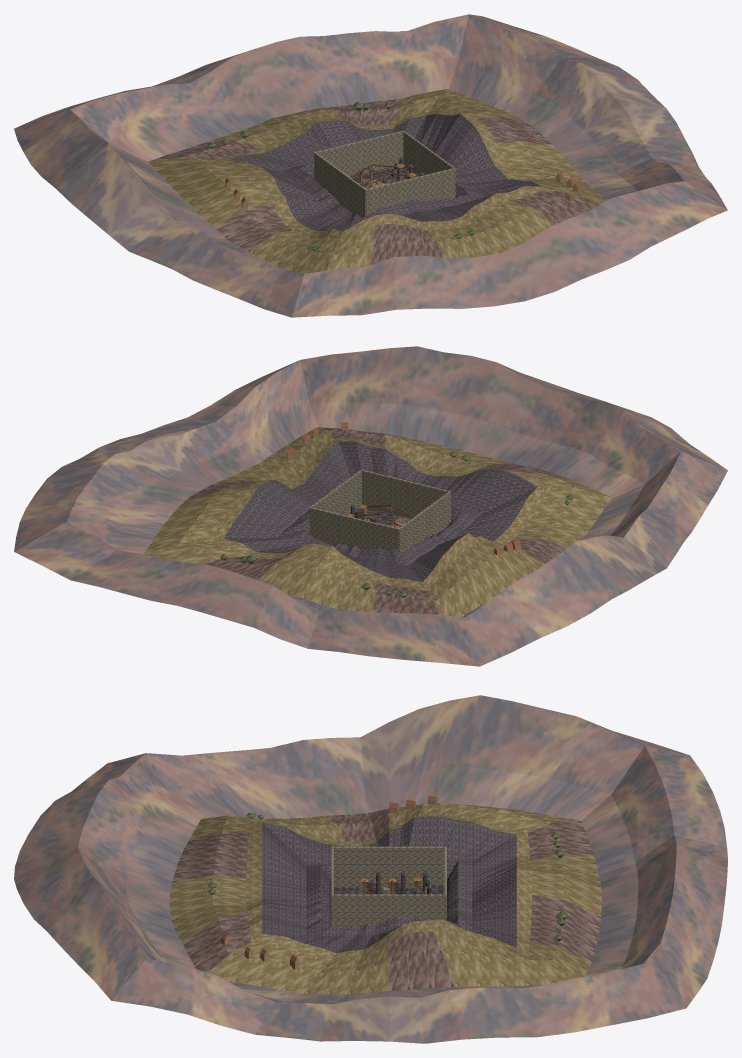
The model's file is CinderLens.fbx.
3 renders of one model, top to bottom at view 1: azimuth 30°, elevation 25°; view 2: azimuth 150°, elevation 25°; view 3: azimuth 270°, elevation 25°, orthographic. The views are drawn at different scales.
Parts seen in each view (by area): view 1: Surroundings, Rim, C_Solids, Set, Terrain; view 2: Surroundings, Rim, C_Solids, Set; view 3: Surroundings, Rim, C_Solids, Set.
Part boxes in pixels (x1,y1,x2,y2): Surroundings: (14, 14, 727, 317); Rim: (228, 113, 541, 231); C_Solids: (314, 130, 455, 217); Set: (350, 157, 424, 185); Terrain: (352, 167, 408, 189); Surroundings: (14, 346, 727, 666); Rim: (223, 441, 537, 582); C_Solids: (309, 470, 450, 552); Set: (340, 504, 413, 526); Surroundings: (14, 695, 727, 1043); Rim: (262, 817, 516, 953); C_Solids: (331, 846, 446, 926); Set: (359, 871, 431, 894).
Bounding box in the file's own units: 26166 × 3750 × 25778.
